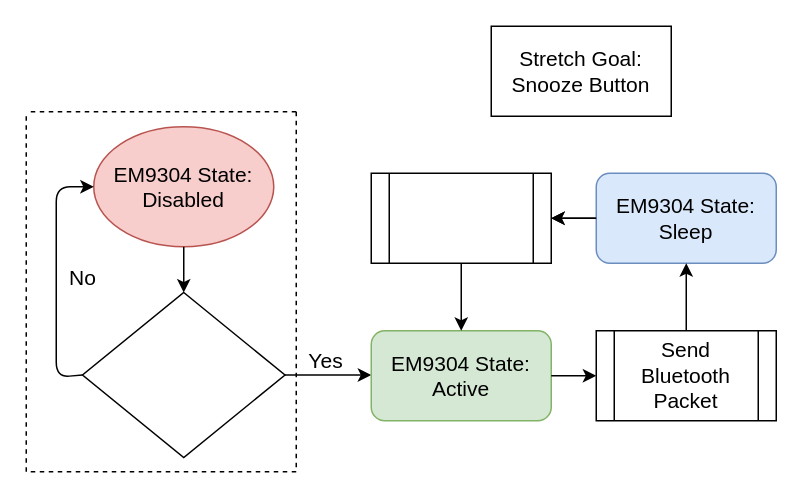
This 803x500 diagram has some shape labels left out. Each missing label, with the box of its shape:
EM9304 EN Pin Set High: (81, 291, 285, 458)
Wait 2s (0.5 Hz): (370, 172, 551, 263)
